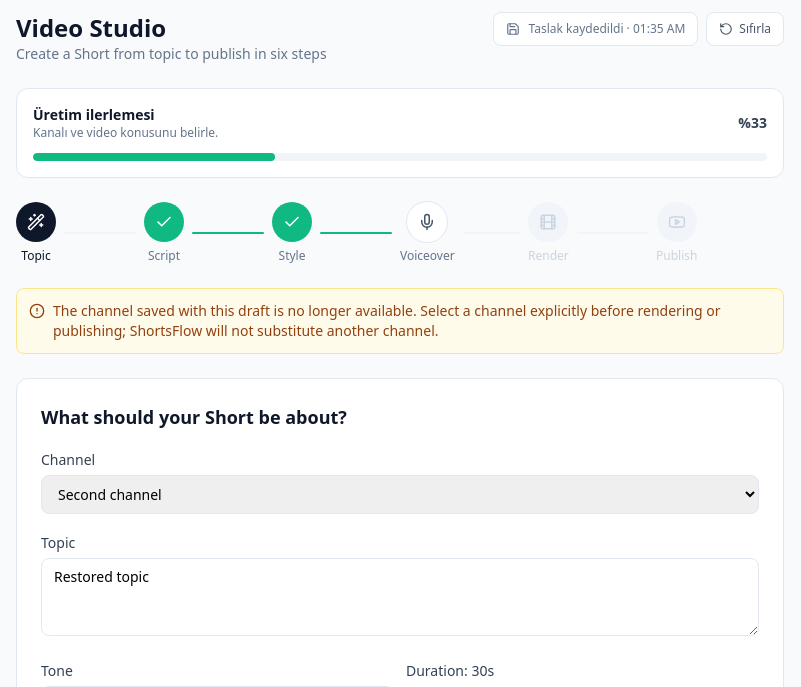
Test: native channel UI catalog › requires explicit reselection instead of substituting the sole remaining channel on restore
The image size is (801, 687).
Later steps or results of the test are not shown.
Select "Second channel" in the 1st dropdown at (400, 494), box [41,475,759,514]
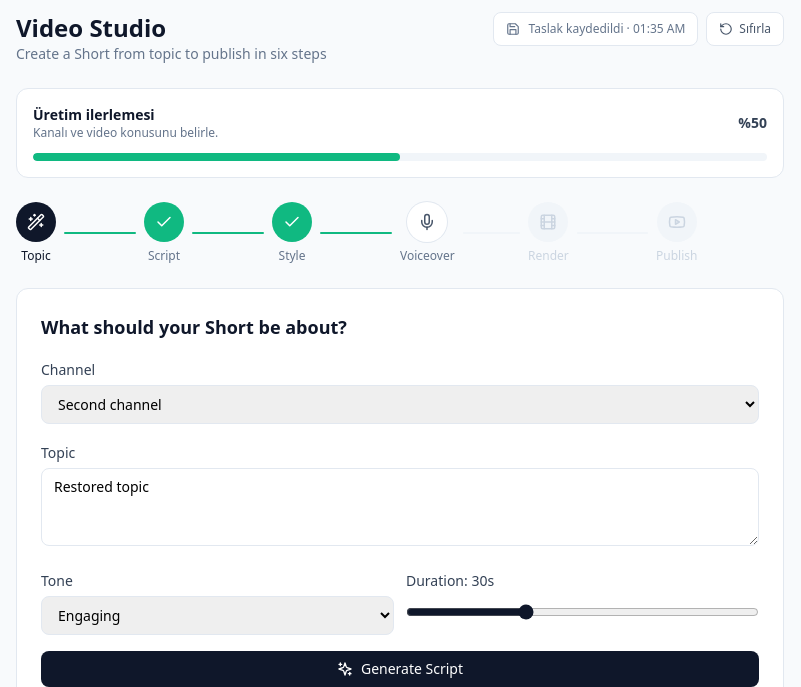
Expected: the text "will not substitute another channel" is gone
